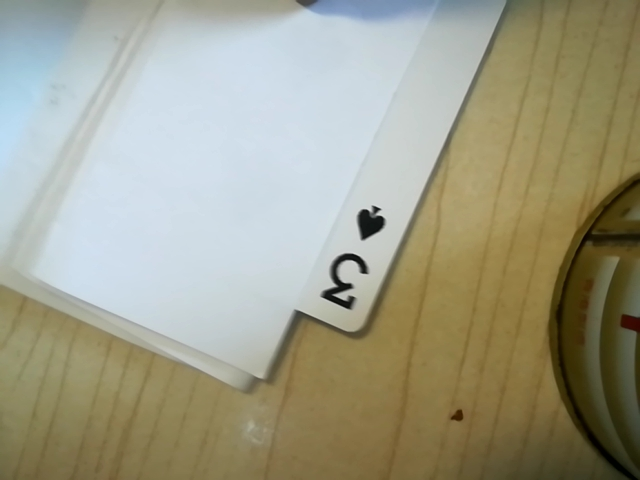ht 3: (303, 196, 396, 324)
